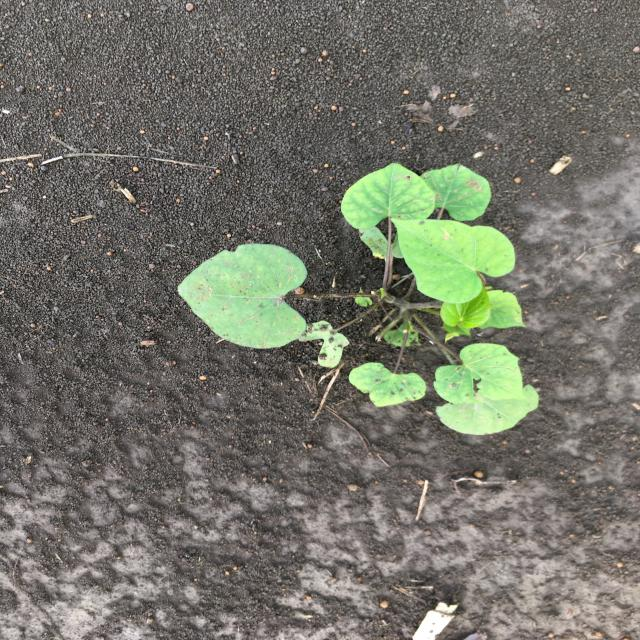MorningGlory: (176, 159, 545, 438)
